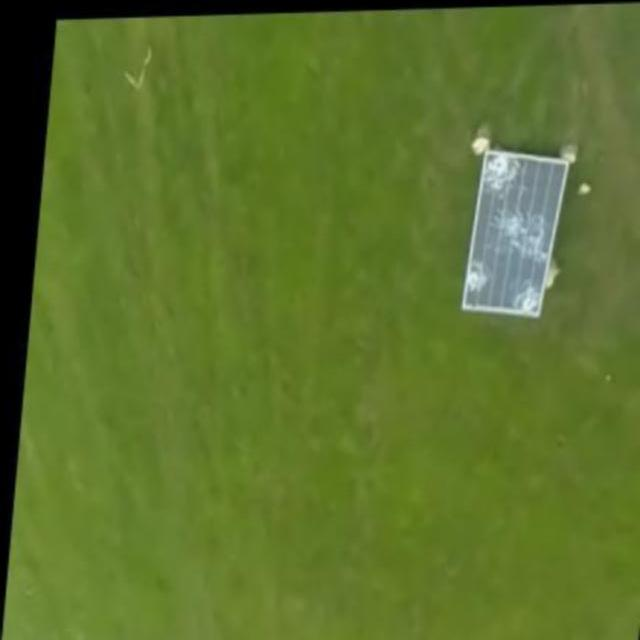cracked: (458, 146, 572, 318)
